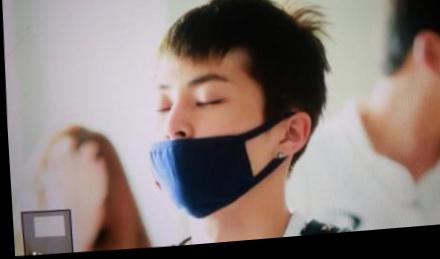WRONG: (142, 55, 267, 226)
